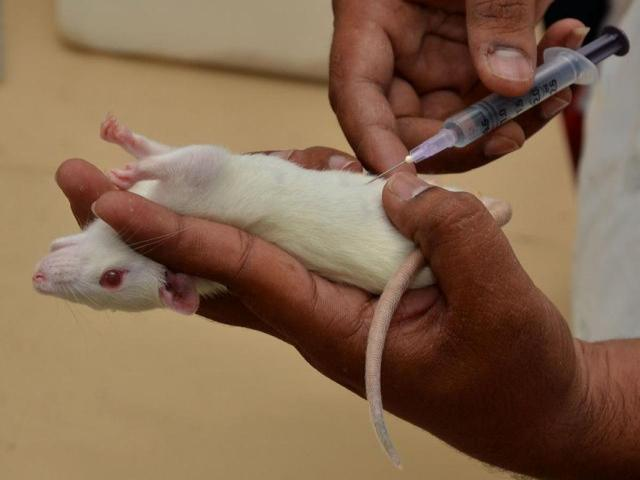Tikus: (29, 114, 508, 316)
